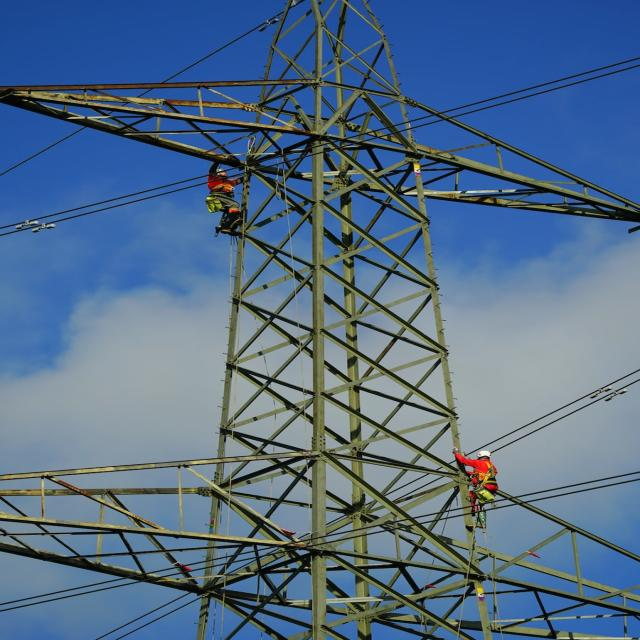transmission tower: (97, 39, 640, 640)
